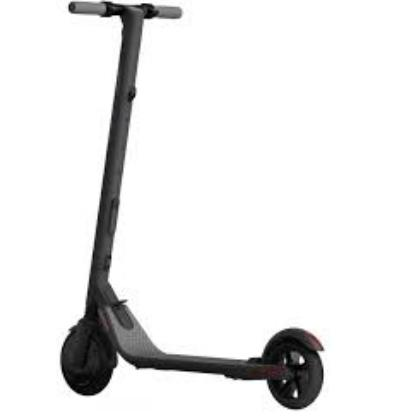bike: (59, 0, 326, 412)
